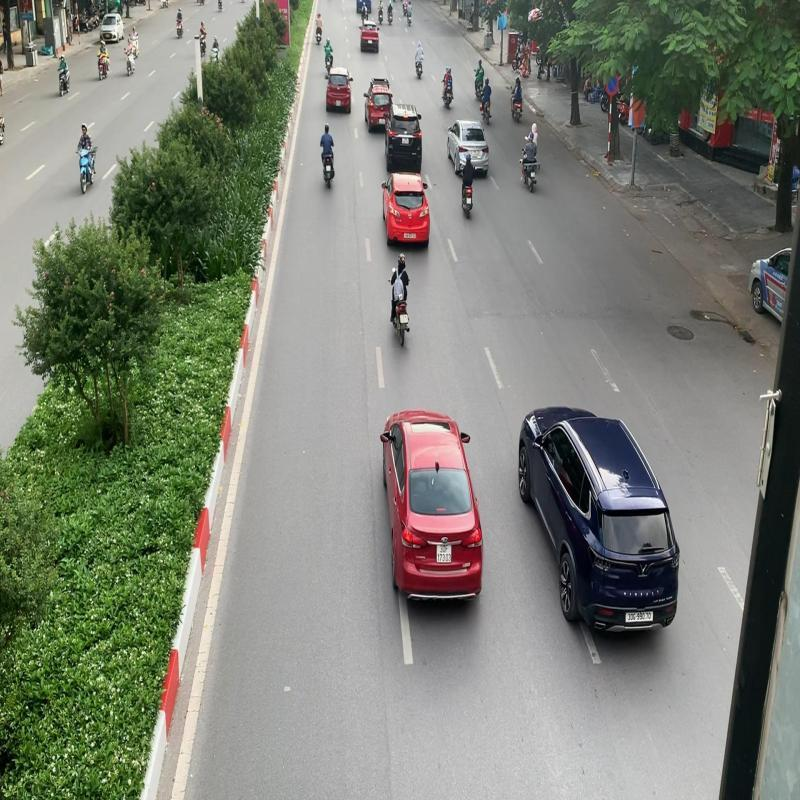helmet: (398, 253, 405, 266)
licenseplate: (402, 314, 408, 324)
motorcyclist: (388, 252, 412, 348)
